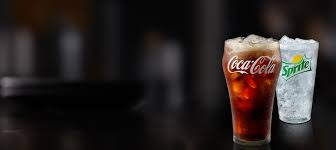coke: (218, 34, 282, 143)
